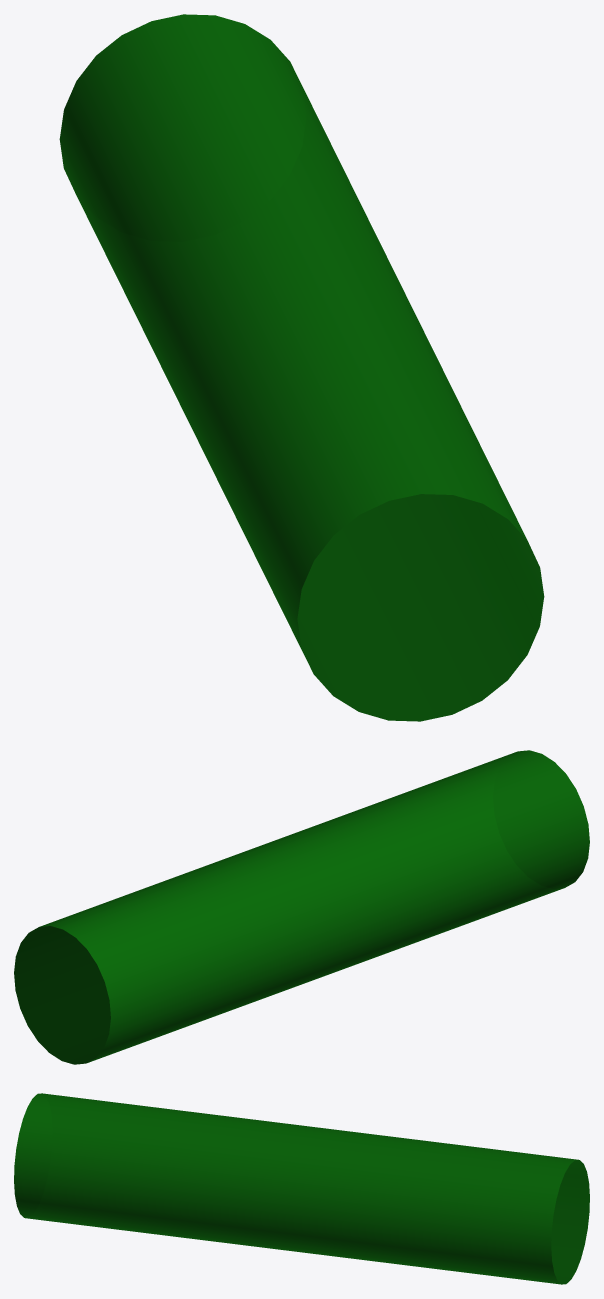
The model's file is Event_421115418_jet_4.fbx.
3 views of the same model, one above another, from view 1: azimuth 30°, elevation 25°; view 2: azimuth 150°, elevation 25°; view 3: azimuth 270°, elevation 25° (orthographic). The views are drawn at different scales.
Parts seen in each view (by area): view 1: Model; view 2: Model; view 3: Model.
Part boxes in pixels (x1,y1,x2,y2): Model: (59, 14, 544, 721); Model: (14, 750, 589, 1064); Model: (14, 1093, 589, 1284).
Bounding box in the file's own units: 0.0929 × 0.0423 × 0.1825.
